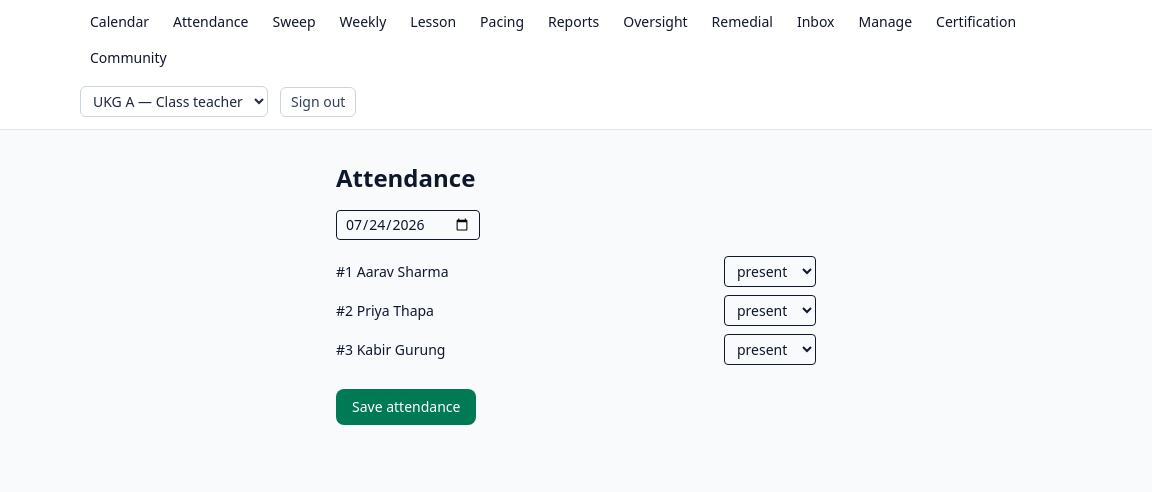
Scenario: AttendancePage › loads children from the API and saves default present status
The width and height of the screenshot is (1152, 492).
Expected: the text "#1 Aarav Sharma" is shown, [336, 262, 448, 282]
Click the button "Save attendance": coordinates (406, 407) [336, 389, 476, 425]
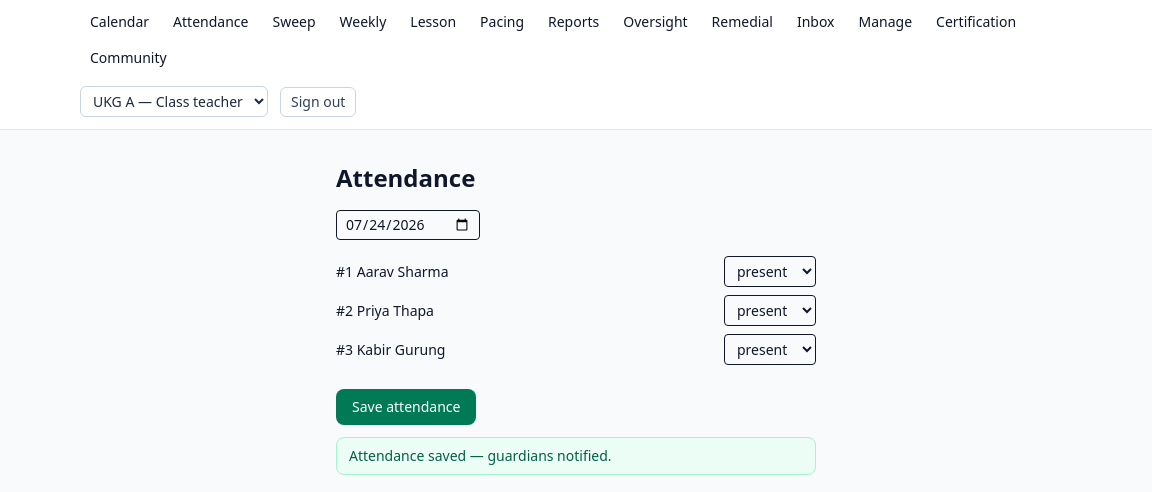
Now the text "Attendance saved — guardians notified." is shown, box [336, 437, 816, 475]
